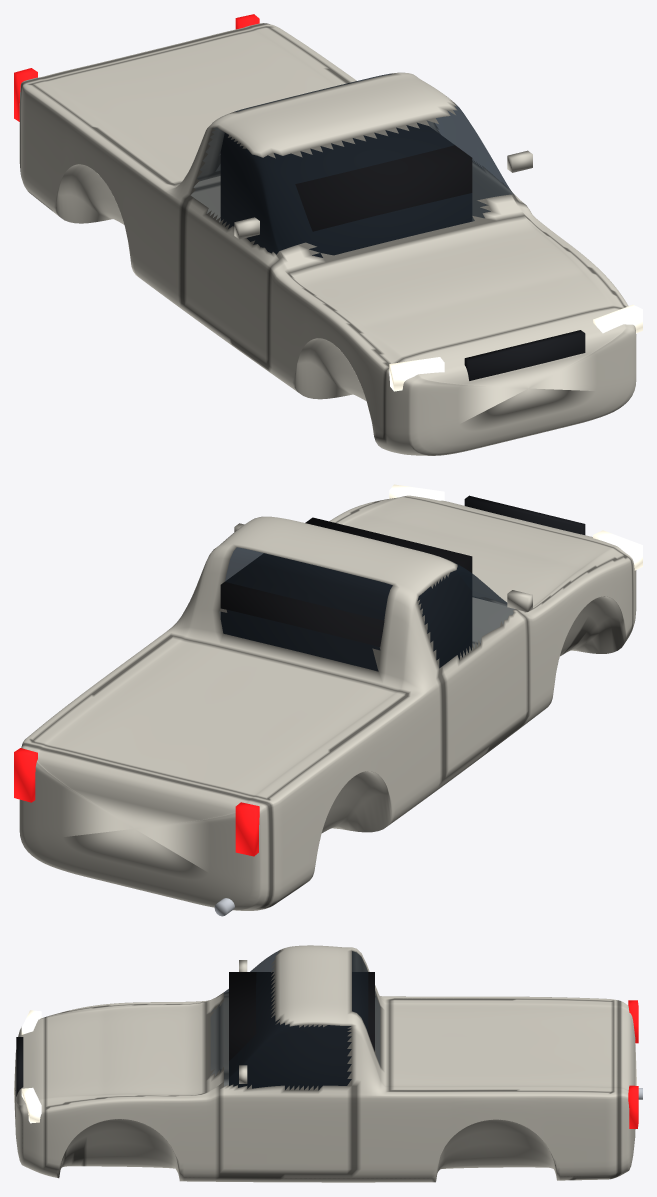
File: pickup.glb
3 views of the same model, one above another, from view 1: azimuth 30°, elevation 25°; view 2: azimuth 150°, elevation 25°; view 3: azimuth 270°, elevation 25° (orthographic). The views are drawn at different scales.
Parts seen in each view (by area): view 1: body, hood, interior, bumper_F, trunk, glass_front, door_FR, glass_R, grille, glass_L, door_FL, light_FR (+2 smaller); view 2: body, trunk, bumper_R, interior, hood, glass_rear, door_FR, glass_R, bumper_F, grille, light_RR, light_RL (+1 smaller); view 3: body, trunk, hood, door_FL, interior, glass_L, bumper_F, bumper_R, glass_front, glass_rear, door_FR, light_FL (+2 smaller).
Boxes of the visible parts, x1,y1,x2,y2 form: body: (20, 23, 628, 439); hood: (288, 215, 625, 366); interior: (220, 123, 472, 257); bumper_F: (374, 307, 636, 455); trunk: (30, 26, 348, 184); glass_front: (278, 117, 490, 257); door_FR: (181, 195, 282, 368); glass_R: (191, 127, 313, 254); grille: (464, 330, 585, 380); glass_L: (435, 104, 514, 198); door_FL: (472, 160, 524, 221); light_FR: (389, 357, 444, 391); body: (22, 499, 632, 907); trunk: (31, 635, 408, 799); bumper_R: (19, 744, 289, 910); interior: (220, 517, 472, 671); hood: (336, 496, 627, 609); glass_rear: (219, 547, 392, 671); door_FR: (438, 609, 528, 780); glass_R: (417, 561, 514, 667); bumper_F: (394, 495, 636, 654); grille: (464, 495, 585, 534); light_RR: (235, 802, 259, 856); light_RL: (14, 748, 37, 802); body: (45, 945, 620, 1182); trunk: (390, 999, 613, 1092); hood: (45, 1002, 205, 1108); door_FL: (219, 1083, 356, 1177); interior: (229, 972, 374, 1090); glass_L: (224, 1016, 351, 1090); bumper_F: (14, 1017, 83, 1178); bumper_R: (570, 1000, 636, 1180); glass_front: (210, 957, 274, 1075); glass_rear: (352, 951, 380, 1064); door_FR: (219, 992, 228, 1078); light_FL: (21, 1087, 41, 1123).
Size of the model in its own units: 2.28 by 1.55 by 5.35.
